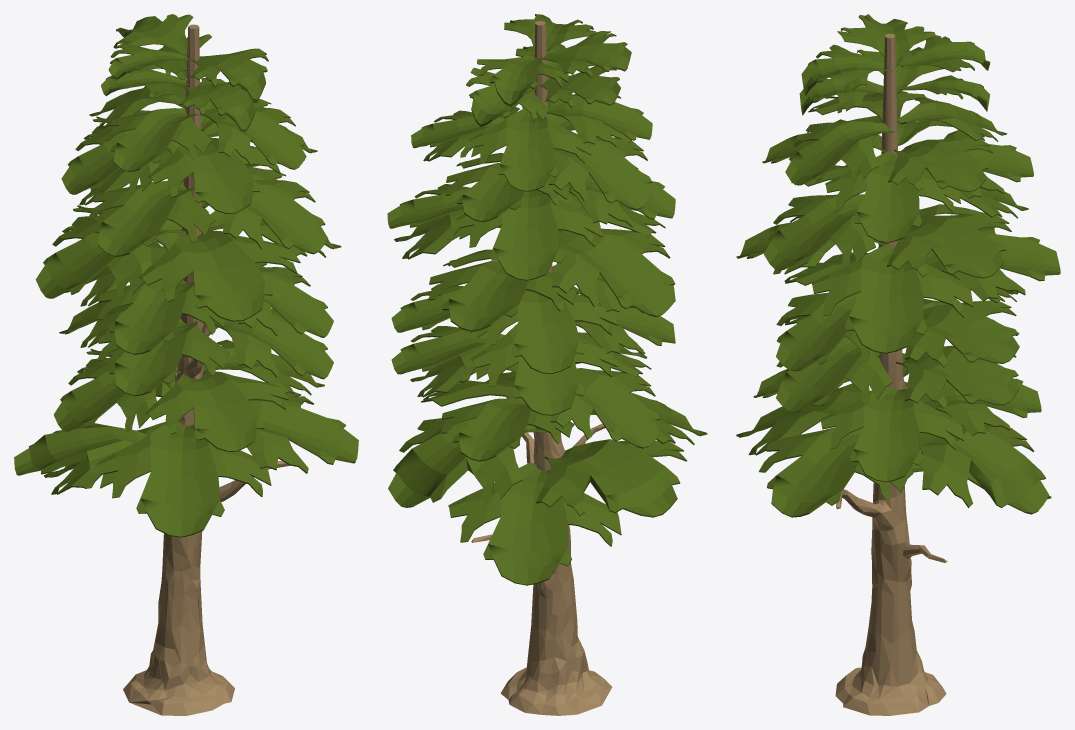
Rendered from SM_tree_large_01.fbx.
The picture shows the model from 3 angles, left to right: view 1: azimuth 30°, elevation 25°; view 2: azimuth 150°, elevation 25°; view 3: azimuth 270°, elevation 25°; orthographic projection.
Parts seen in each view (by area): view 1: tree_large_01; view 2: tree_large_01; view 3: tree_large_01.
Boxes of the visible parts, x1,y1,x2,y2 form: tree_large_01: (14, 14, 358, 715); tree_large_01: (387, 14, 707, 715); tree_large_01: (736, 14, 1060, 715).
Size of the model in its own units: 1395 by 3030 by 1342.
